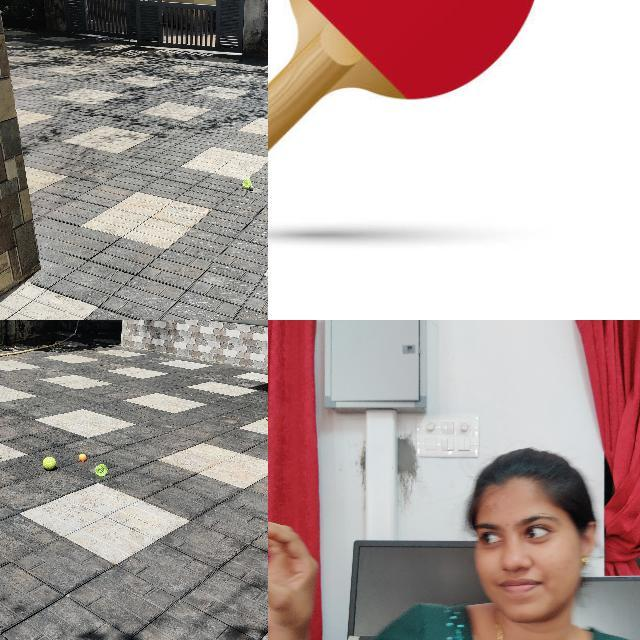ping-pong-ball: (78, 452, 86, 460)
